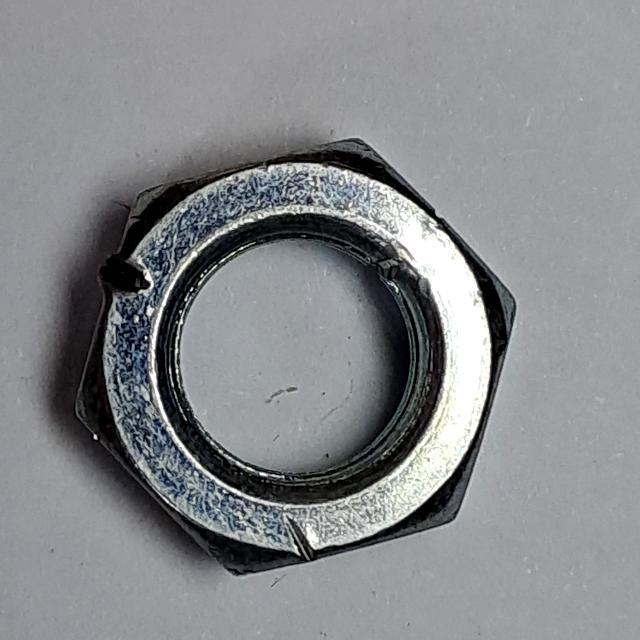Scratches: (61, 130, 533, 589)
